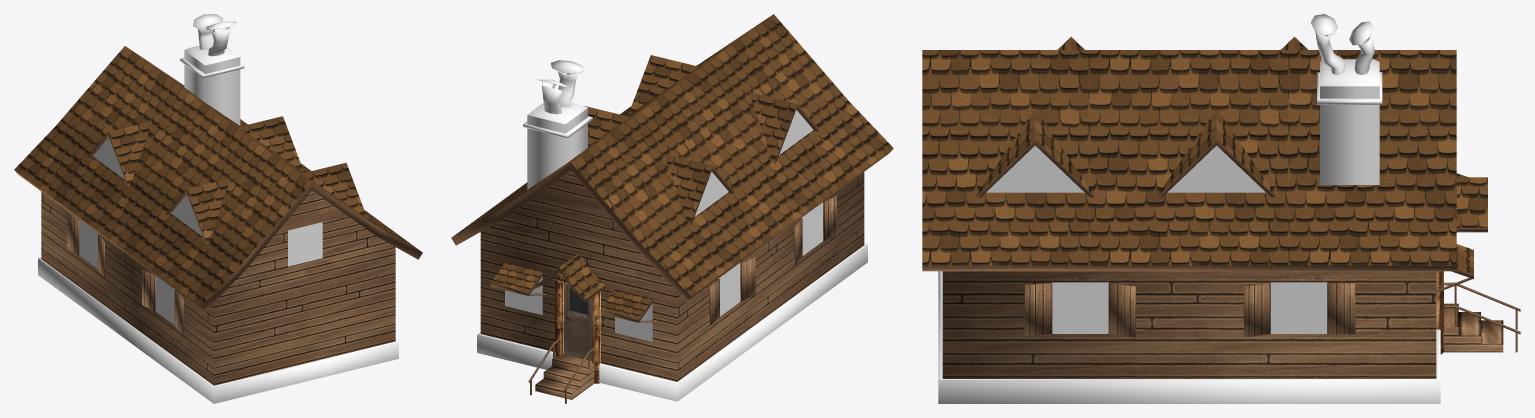
Rendered from stklib_old_house_a_main.glb.
3 views of the same model, side by side, from view 1: azimuth 30°, elevation 25°; view 2: azimuth 150°, elevation 25°; view 3: azimuth 270°, elevation 25° (orthographic). The views are drawn at different scales.
Parts seen in each view (by area): view 1: roof_3.jpg__, stktex_generic_WoodA.jpg__, stktex_generic_stoneWallA.png__, stktex_windowsSet_a.png__, stk_generic_ironA.png__; view 2: roof_3.jpg__, stktex_generic_WoodA.jpg__, stktex_generic_stoneWallA.png__, stktex_windowsSet_a.png__, stk_generic_ironA.png__, door.jpg__, dark-wall-wood.png__; view 3: roof_3.jpg__, stktex_generic_WoodA.jpg__, stktex_generic_stoneWallA.png__, stktex_windowsSet_a.png__, stk_generic_ironA.png__, dark-wall-wood.png__.
Part boxes in pixels (x1,y1,x2,y2): roof_3.jpg__: (14, 46, 421, 306); stktex_generic_WoodA.jpg__: (15, 132, 422, 385); stktex_generic_stoneWallA.png__: (38, 50, 398, 403); stktex_windowsSet_a.png__: (79, 137, 322, 324); stk_generic_ironA.png__: (180, 14, 244, 78); roof_3.jpg__: (453, 14, 893, 318); stktex_generic_WoodA.jpg__: (451, 104, 892, 403); stktex_generic_stoneWallA.png__: (477, 108, 867, 401); stktex_windowsSet_a.png__: (505, 110, 822, 341); stk_generic_ironA.png__: (523, 60, 592, 137); door.jpg__: (564, 283, 591, 360); dark-wall-wood.png__: (555, 273, 600, 383); roof_3.jpg__: (922, 37, 1487, 273); stktex_generic_WoodA.jpg__: (922, 140, 1520, 378); stktex_generic_stoneWallA.png__: (938, 86, 1440, 403); stktex_windowsSet_a.png__: (986, 145, 1327, 333); stk_generic_ironA.png__: (1310, 14, 1382, 104); dark-wall-wood.png__: (1436, 271, 1443, 354).
Size of the model in its own units: 6.55 by 7.02 by 10.72.
8 materials, 4 textured.
